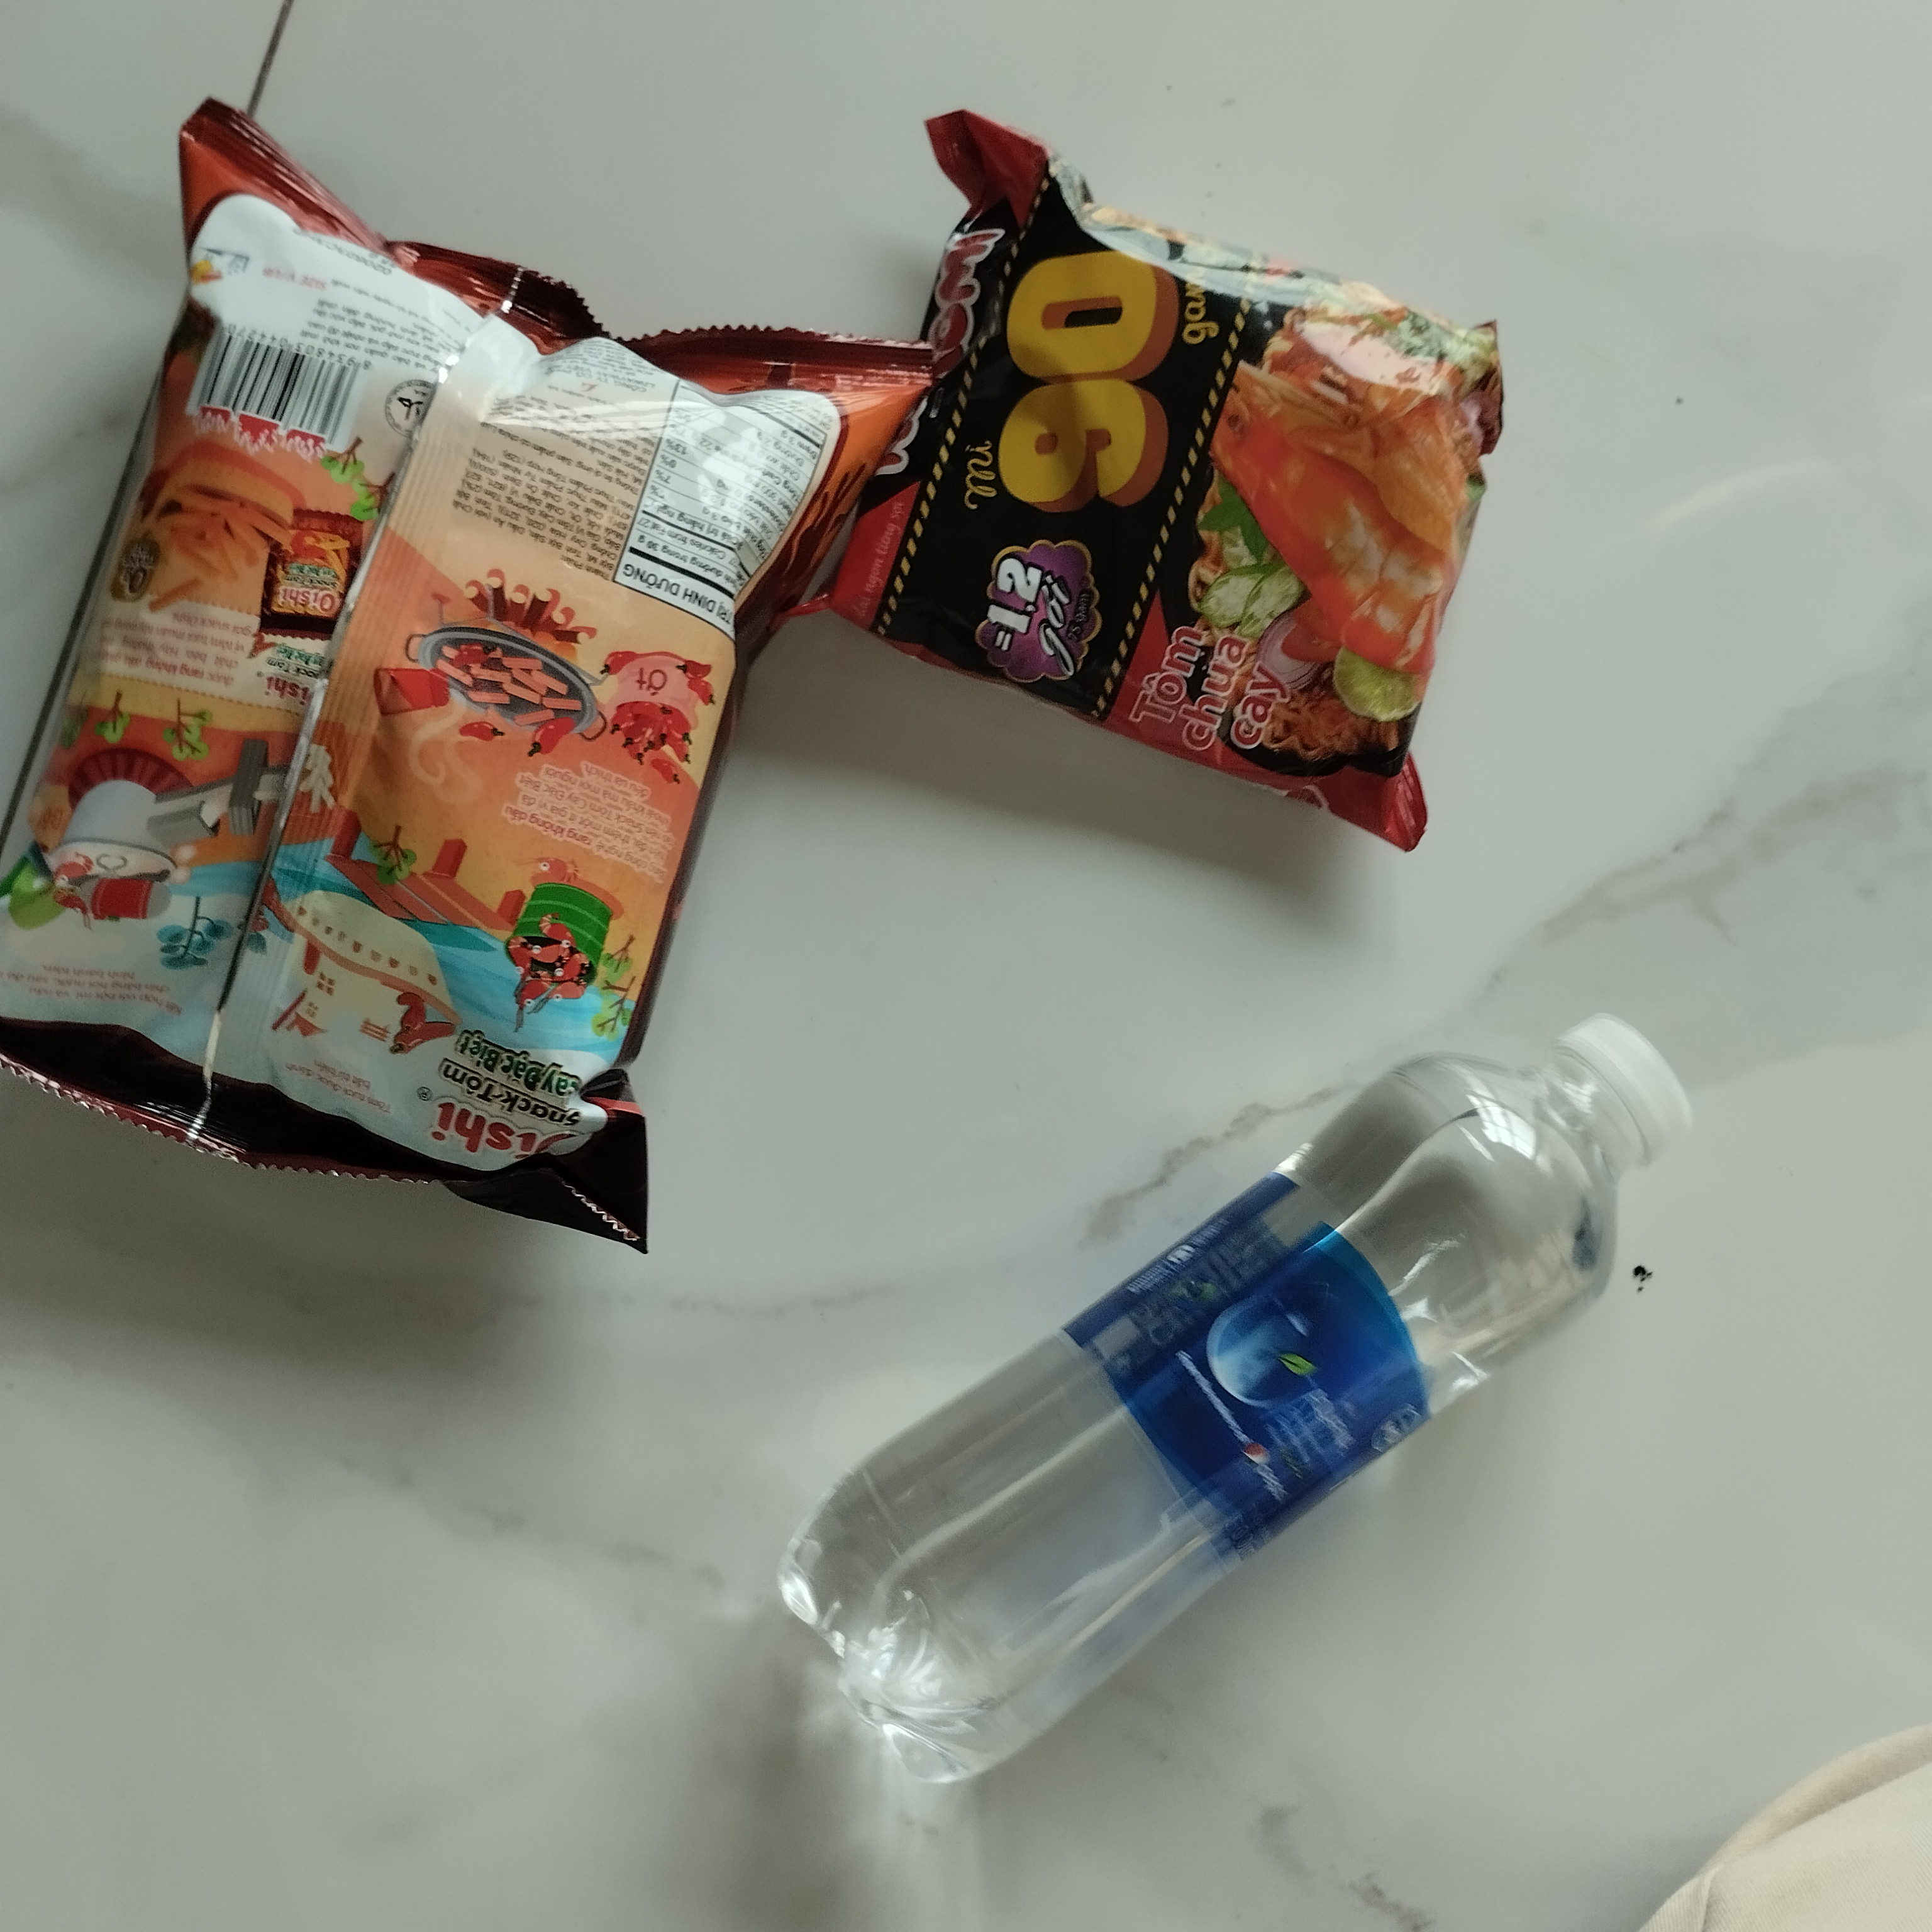Aquafina: (780, 1005, 1707, 1808)
Kokomi: (798, 110, 1534, 863)
Oishi_Cay: (16, 92, 948, 1251)
